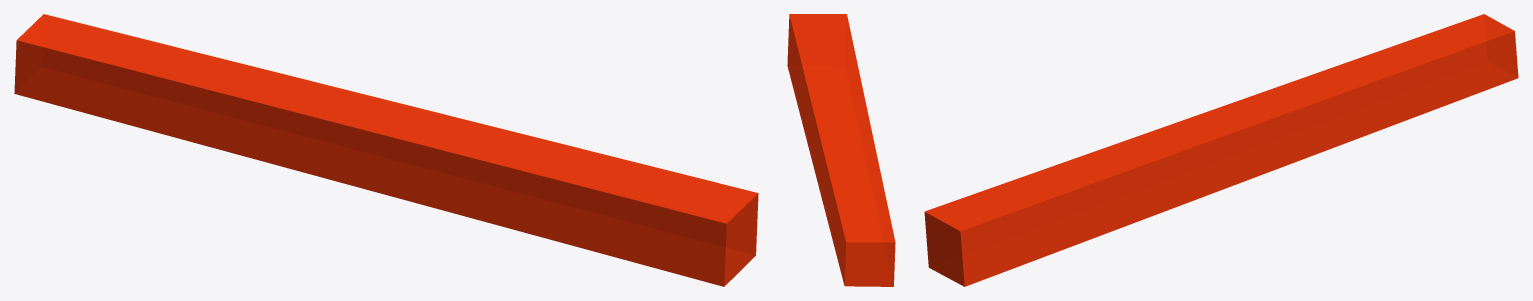
Rendered from Event_420094457_EBrechit_24.fbx.
3 renders of one model, left to right at view 1: azimuth 30°, elevation 25°; view 2: azimuth 150°, elevation 25°; view 3: azimuth 270°, elevation 25°, orthographic. The views are drawn at different scales.
Visible parts, largest first — view 1: Model; view 2: Model; view 3: Model.
Boxes of the visible parts, box(x1,y1,x2,y2) form: Model: box(14, 14, 758, 286); Model: box(787, 14, 895, 286); Model: box(924, 14, 1518, 286).
Bounding box in the file's own units: 0.4643 × 0.1089 × 0.6307.
